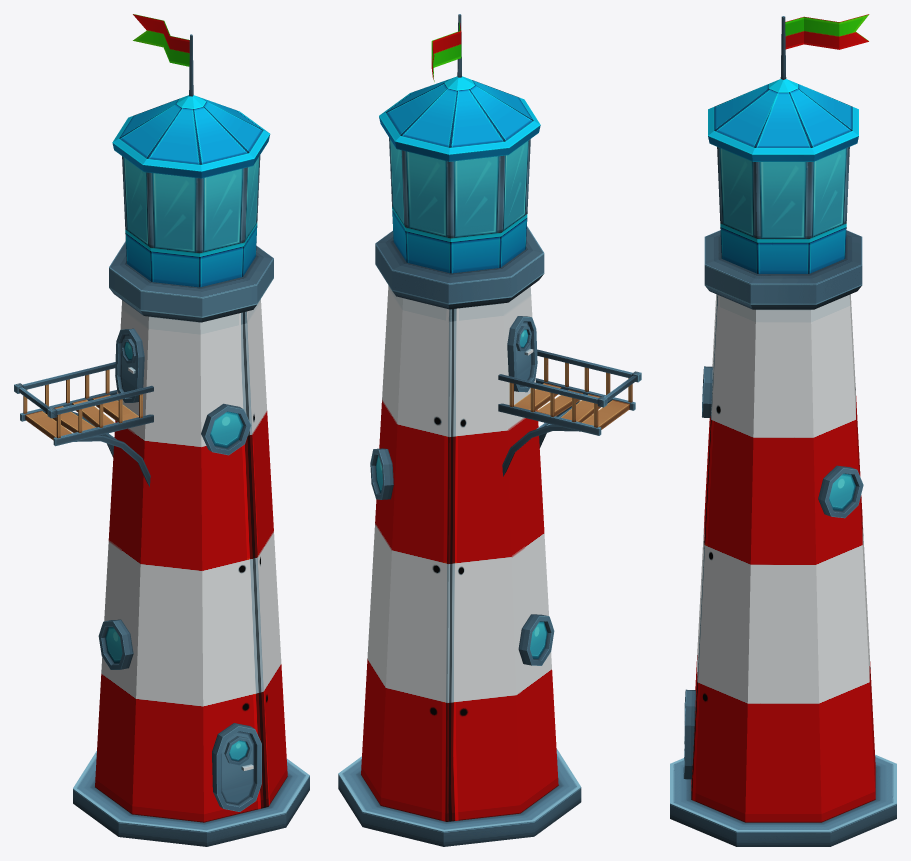
The model's file is lighthouse.fbx.
The picture shows the model from 3 angles, left to right: view 1: azimuth 30°, elevation 25°; view 2: azimuth 150°, elevation 25°; view 3: azimuth 270°, elevation 25°; orthographic projection. The views are drawn at different scales.
Visible parts, largest first — view 1: lighthouse; view 2: lighthouse; view 3: lighthouse.
Part boxes in pixels (x1,y1,x2,y2): lighthouse: (14,14,309,846); lighthouse: (338,14,641,846); lighthouse: (670,14,896,846).
Bounding box in the file's own units: 11.13 × 31.85 × 8.37.
